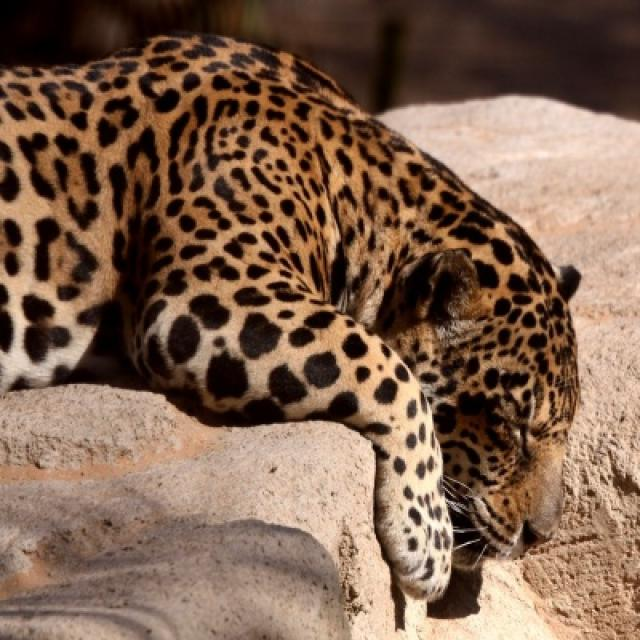Jaguar: (0, 32, 581, 626)
